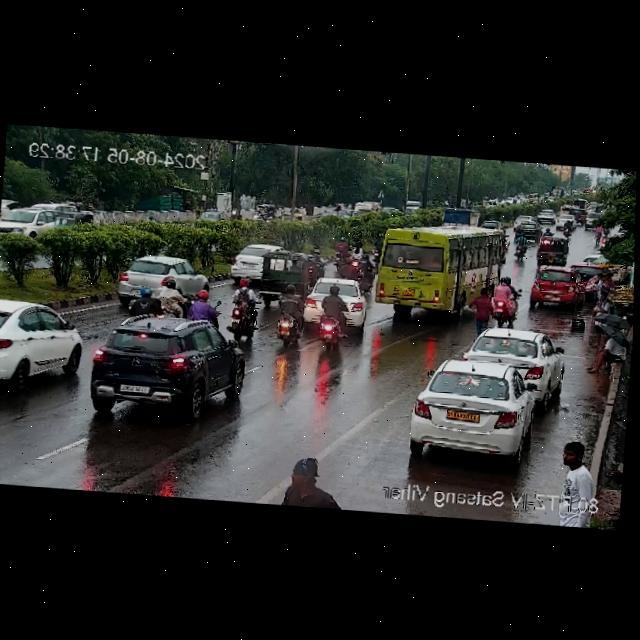bus: (369, 219, 508, 321)
car: (88, 313, 255, 424), (410, 356, 538, 459), (0, 296, 92, 394), (466, 326, 565, 389), (113, 254, 210, 297), (249, 243, 317, 299), (299, 277, 368, 332), (226, 240, 290, 284), (528, 266, 586, 308), (0, 204, 61, 239), (535, 234, 570, 266), (53, 205, 93, 230), (511, 220, 546, 247), (253, 201, 276, 221), (568, 204, 588, 225), (531, 210, 557, 224)
motorcycle: (224, 277, 266, 344), (273, 279, 304, 349), (486, 277, 520, 330), (317, 284, 350, 333), (184, 290, 224, 325), (123, 287, 170, 316), (510, 231, 530, 261), (351, 238, 372, 265), (334, 236, 349, 271), (563, 217, 577, 239)
person: (550, 440, 598, 496), (584, 271, 616, 352), (582, 329, 629, 376), (466, 288, 499, 332)
truck: (437, 205, 472, 226)
